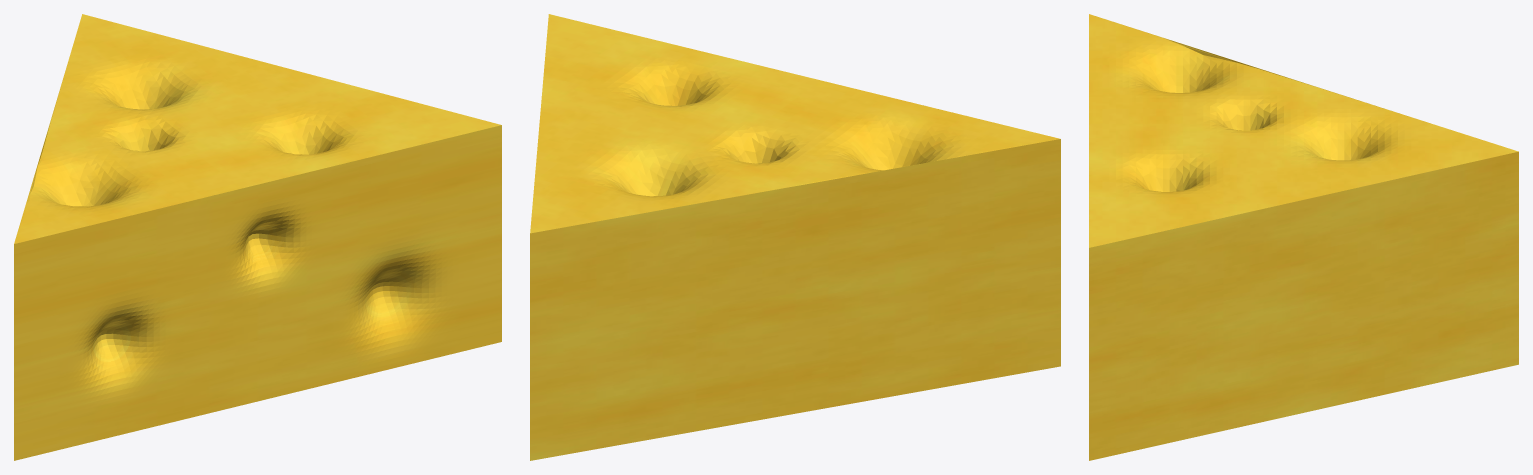
Rendered from cheese-cartoon3.glb.
3 renders of one model, left to right at view 1: azimuth 30°, elevation 25°; view 2: azimuth 150°, elevation 25°; view 3: azimuth 270°, elevation 25°, orthographic. The views are drawn at different scales.
Parts seen in each view (by area): view 1: Cheese; view 2: Cheese; view 3: Cheese.
Part boxes in pixels (x1,y1,x2,y2): Cheese: [14, 14, 501, 460]; Cheese: [530, 14, 1060, 460]; Cheese: [1089, 14, 1518, 460].
Bounding box in the file's own units: 2.45 × 1.04 × 1.9.
Materials: 1 (1 with a texture image).
